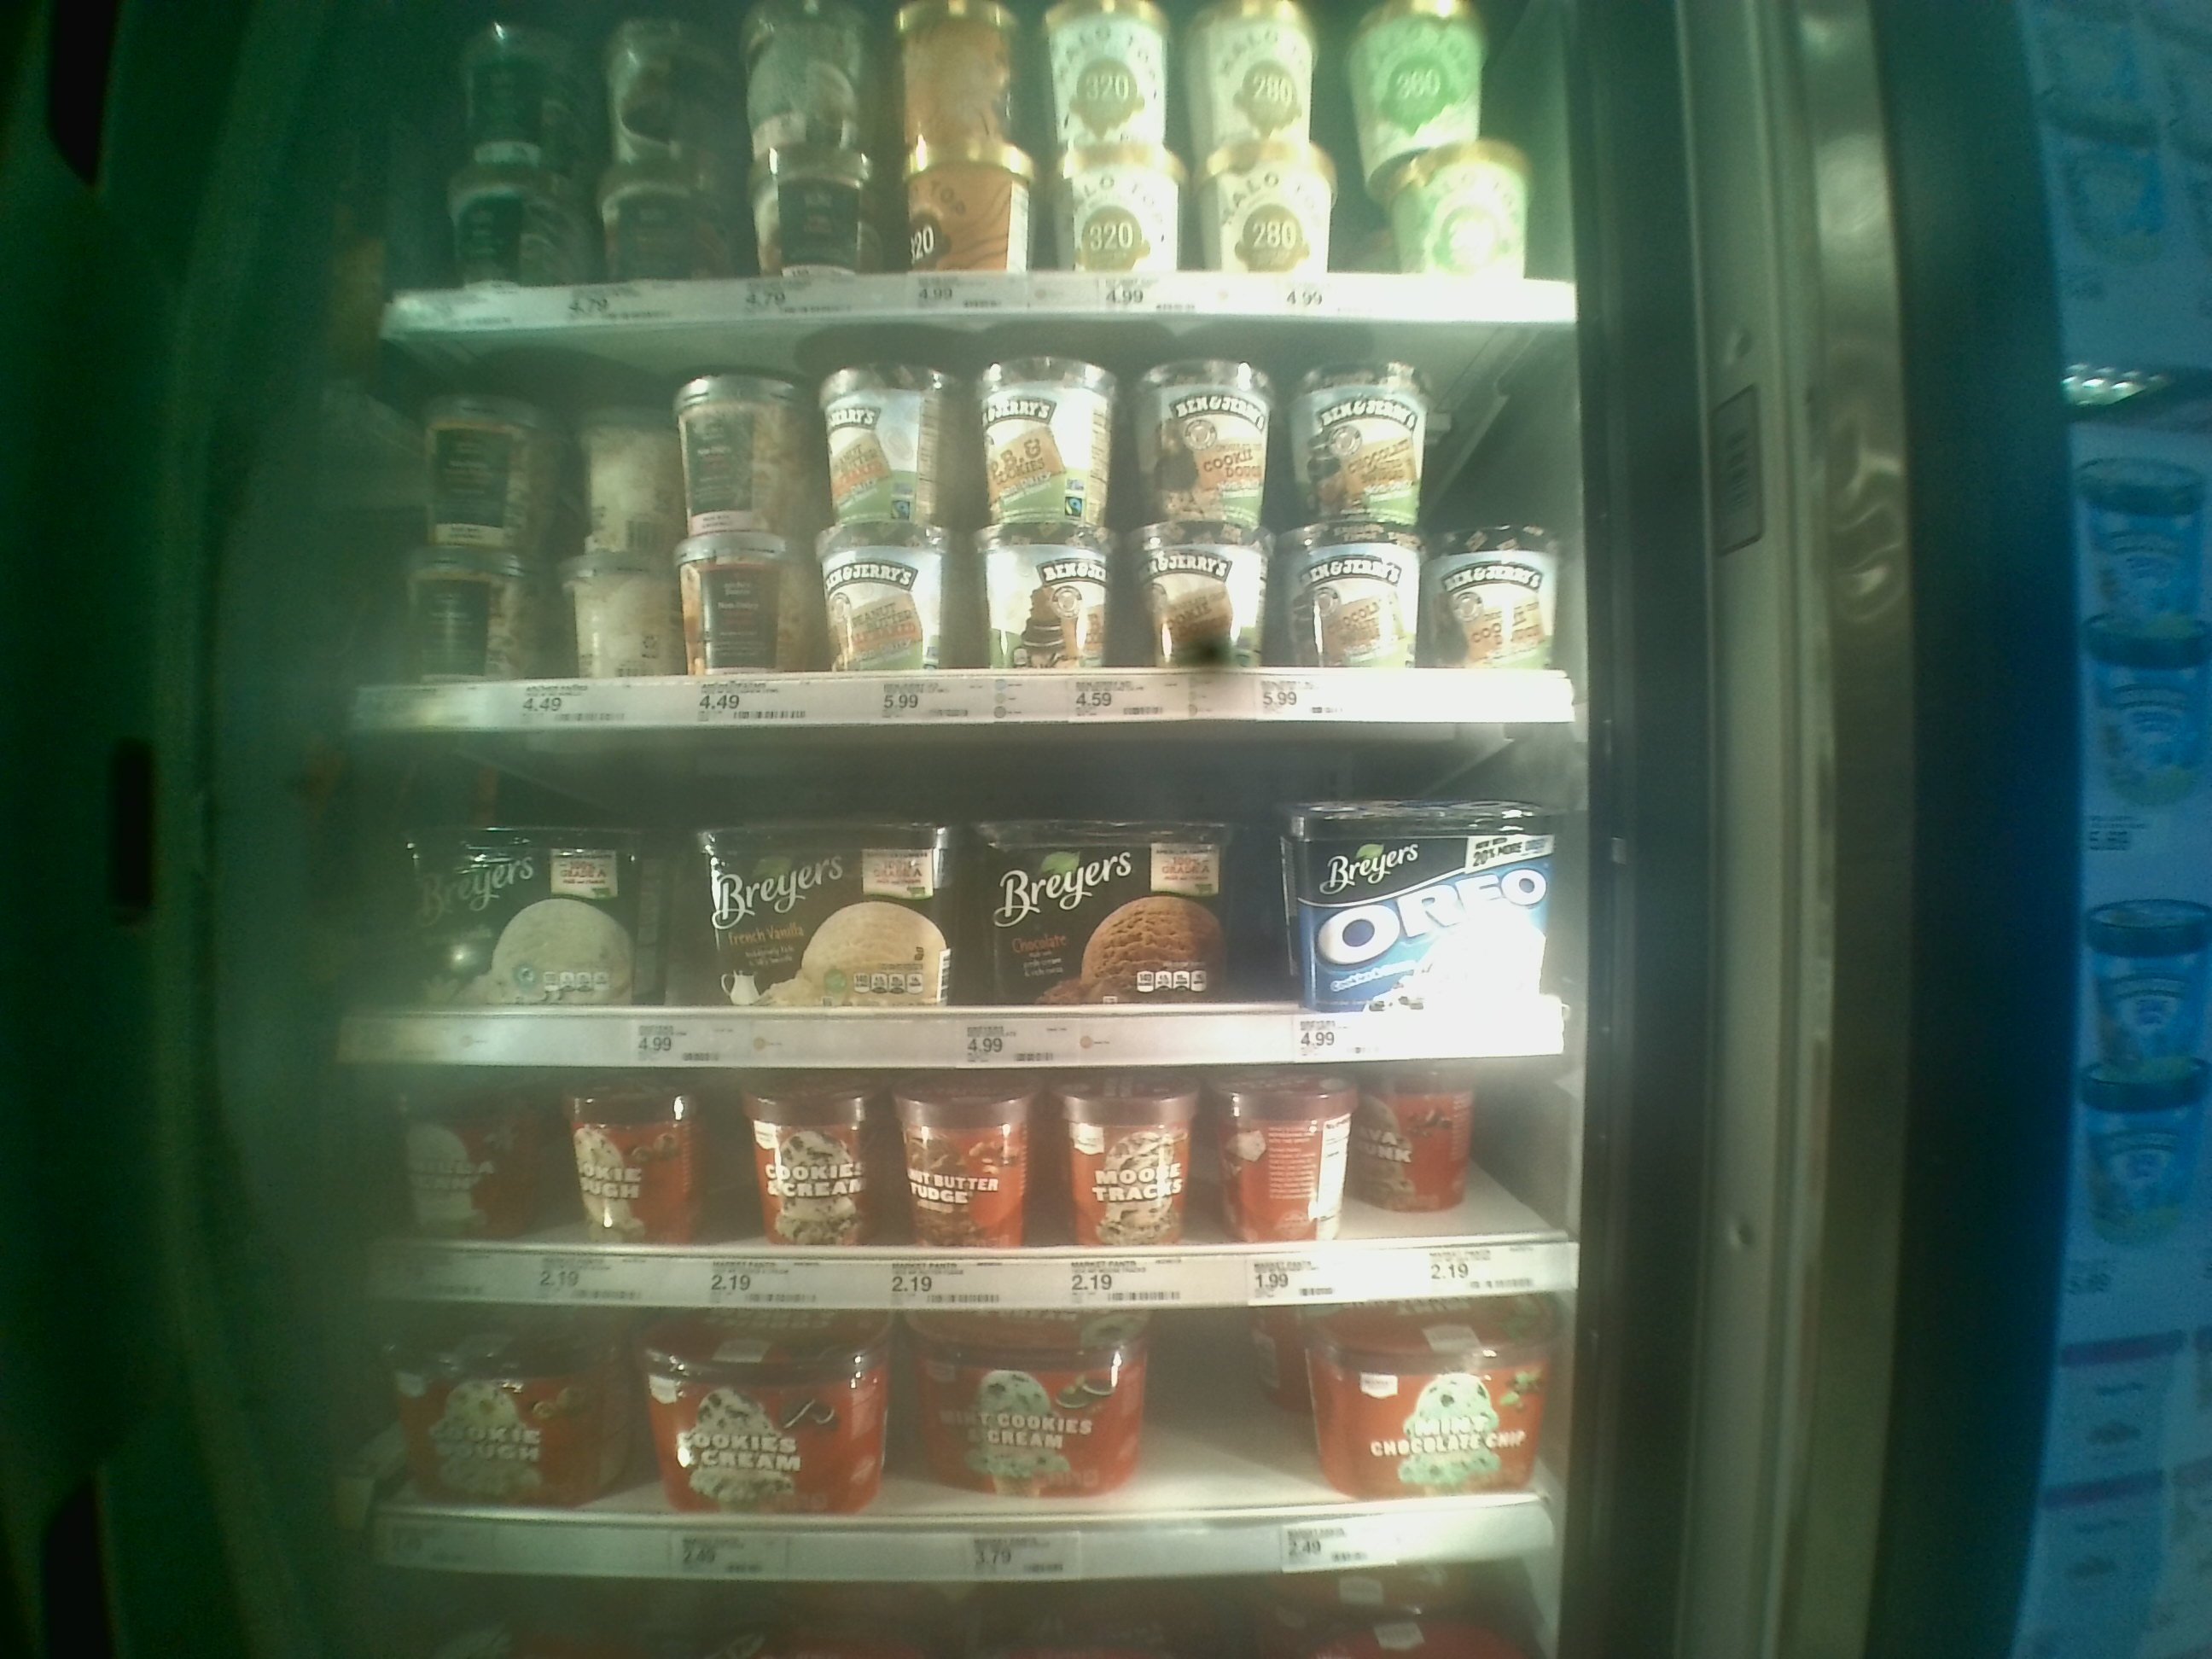ice-cream-shelf: (364, 345, 1580, 741), (340, 741, 1573, 1065), (361, 1307, 1545, 1570), (350, 1065, 1543, 1305)
